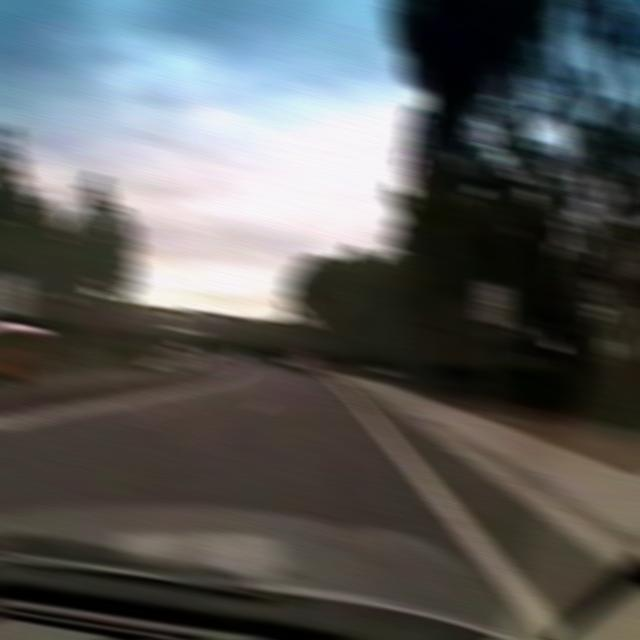speedLimit50: (474, 280, 510, 326)
